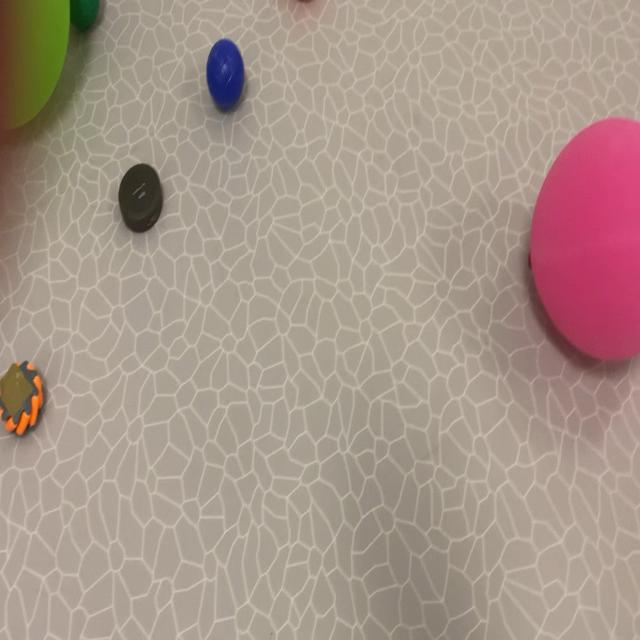green ball: (196, 9, 258, 156)
